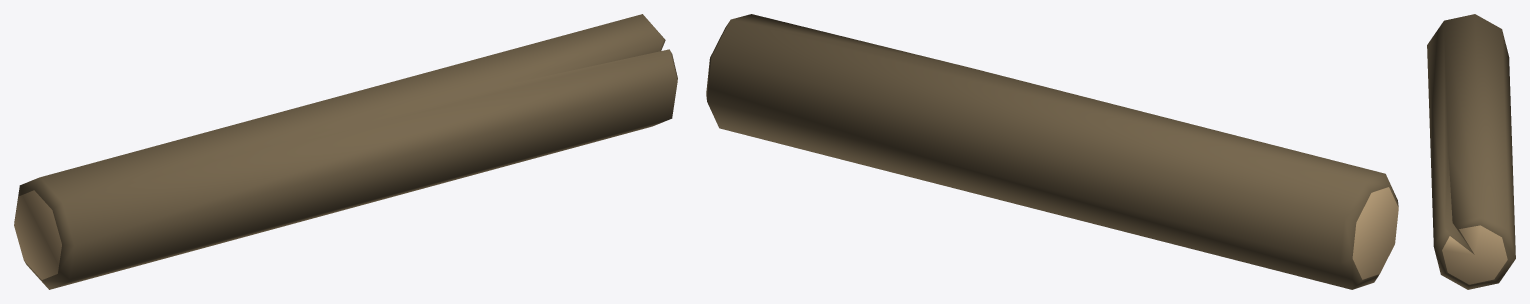
File: Log_Single.glb
3 views of the same model, side by side, from view 1: azimuth 30°, elevation 25°; view 2: azimuth 150°, elevation 25°; view 3: azimuth 270°, elevation 25° (orthographic). The views are drawn at different scales.
Parts seen in each view (by area): view 1: Log Single; view 2: Log Single; view 3: Log Single.
Boxes of the visible parts, x1=… form: Log Single: x1=14, y1=14, x2=677, y2=289; Log Single: x1=706, y1=14, x2=1398, y2=289; Log Single: x1=1427, y1=14, x2=1515, y2=289.
Bounding box in the file's own units: 2.16 × 0.3873 × 0.3775.
1 material, 1 textured.
